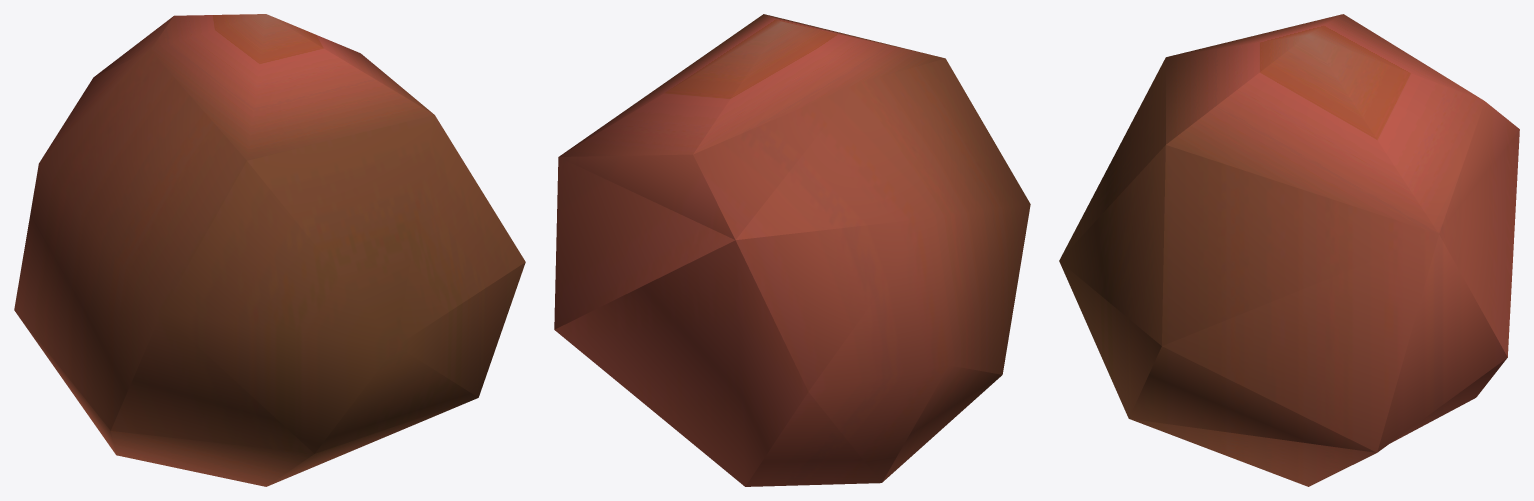
3 renders of one model, left to right at view 1: azimuth 30°, elevation 25°; view 2: azimuth 150°, elevation 25°; view 3: azimuth 270°, elevation 25°, orthographic. The views are drawn at different scales.
Visible parts, largest first — view 1: Coconut; view 2: Coconut; view 3: Coconut.
Boxes of the visible parts, <box> form: Coconut: <box>14,14,525,486</box>; Coconut: <box>554,14,1030,486</box>; Coconut: <box>1059,14,1519,486</box>.
Bounding box in the file's own units: 35.74 × 40 × 36.95.
Materials: 1 (1 with a texture image).
